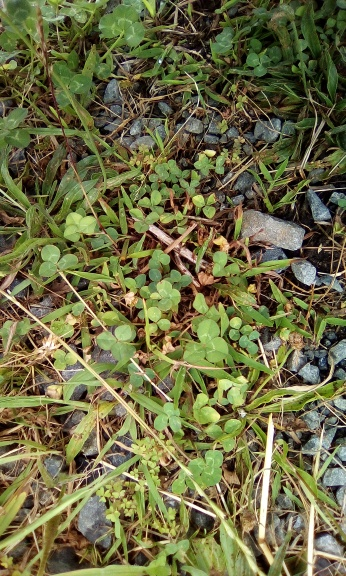4leaf: (149, 279, 182, 313)
